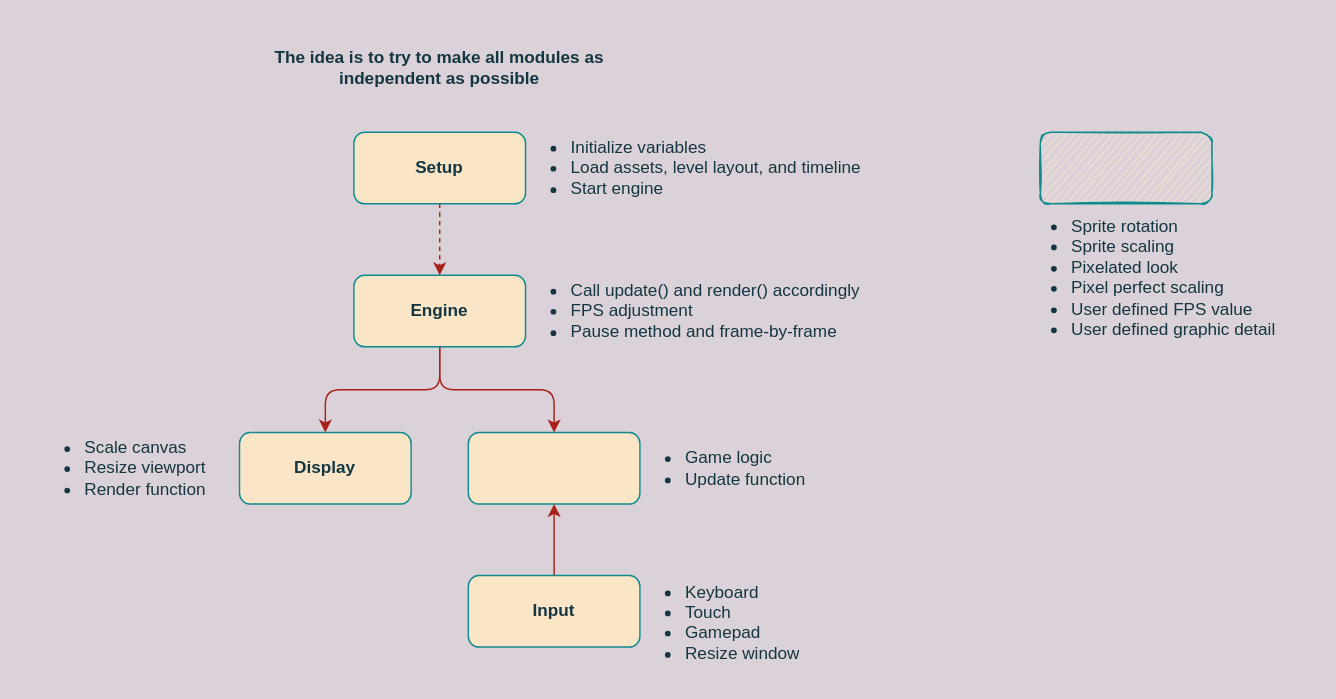
Some shapes in this 1336 by 699 pixel diagram are drawn without their labels. The shapes that lost their labels are listed below. From the top down, each one's centre as x and y in pixels, then its label:
At (x=1125, y=167): "Graphic features".
At (x=553, y=467): "Main logic".
